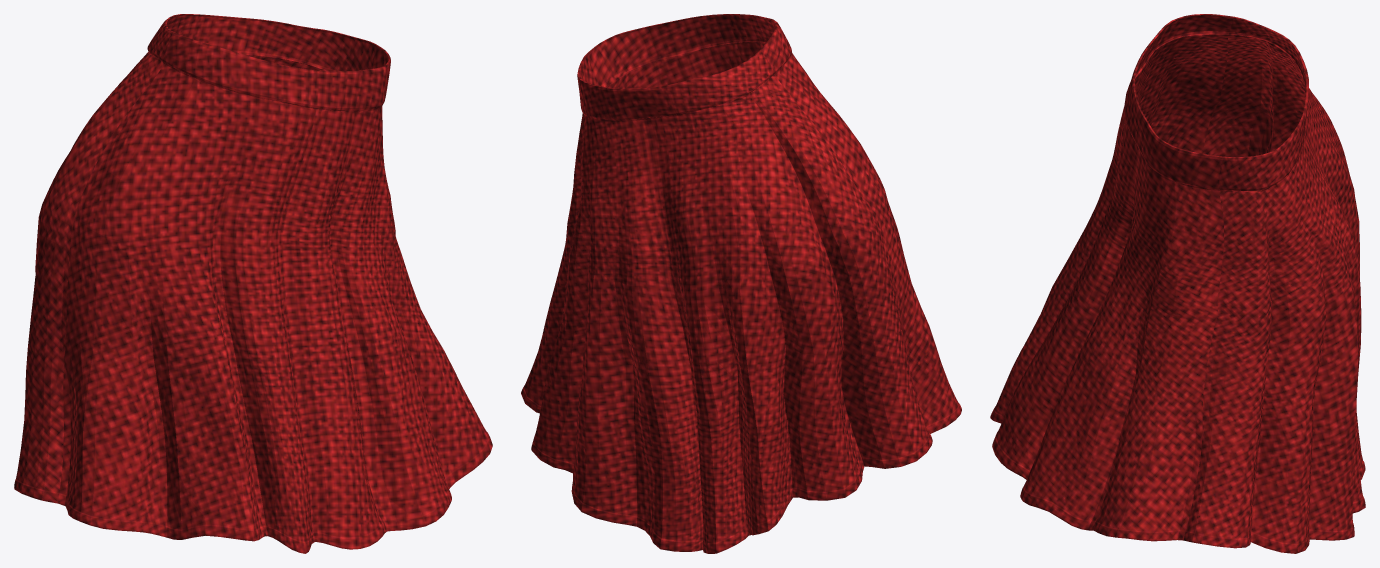
The model's file is skirt.obj.
The picture shows the model from 3 angles, left to right: view 1: azimuth 30°, elevation 25°; view 2: azimuth 150°, elevation 25°; view 3: azimuth 270°, elevation 25°; orthographic projection. The views are drawn at different scales.
Visible parts, largest first — view 1: objFigure_; view 2: objFigure_; view 3: objFigure_.
Boxes of the visible parts, left/top/right/bottom form: objFigure_: left=14, top=14, right=492, bottom=553; objFigure_: left=521, top=14, right=961, bottom=553; objFigure_: left=990, top=14, right=1365, bottom=553.
Size of the model in its own units: 1.72 by 1.96 by 1.38.
Materials: 1 (1 with a texture image).
